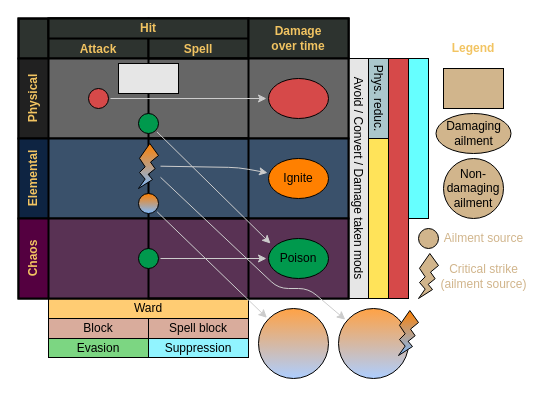
Some shapes in this 550 by 396 pixel diagram are drawn without their labels. The box of each missing label's shape, as (x1, y1, x2, y2) in pixels:
Armour: (118, 62, 178, 94)
Bleeding: (268, 78, 328, 118)
Chill Scorch Brittle Sap: (258, 308, 328, 378)
Defensive mechanic: (442, 68, 504, 108)
Energy shield: (408, 58, 428, 218)
Freeze Shock: (338, 308, 408, 378)
Health: (388, 58, 408, 298)
Resistance: (368, 138, 388, 298)
